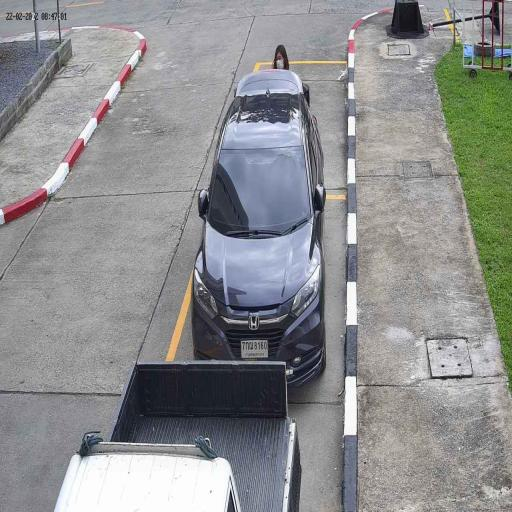car: (189, 90, 327, 386), (55, 364, 303, 512)
